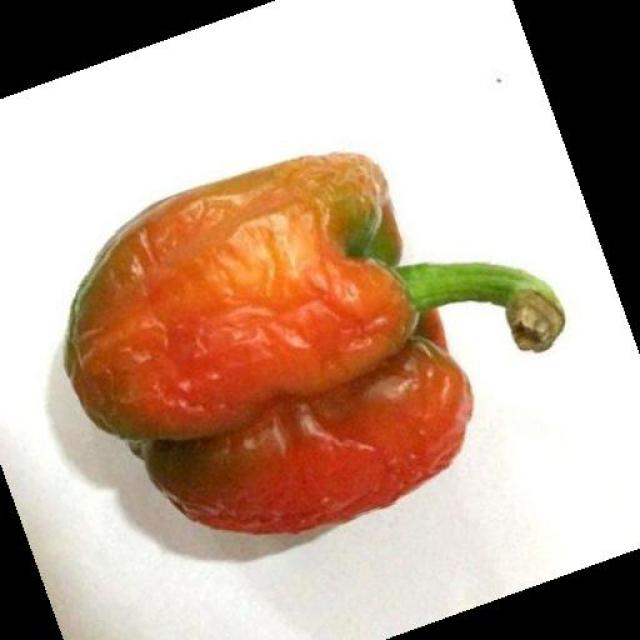Stale_Capsicum: (67, 142, 611, 536)
